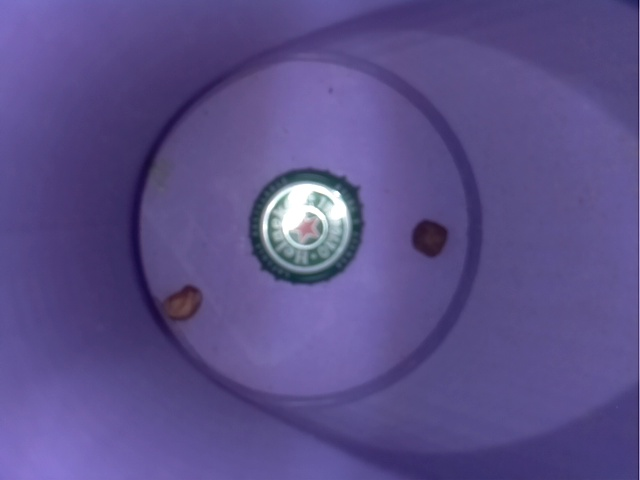capsule: (244, 158, 375, 297)
croquette: (152, 272, 213, 339), (405, 210, 457, 268)
